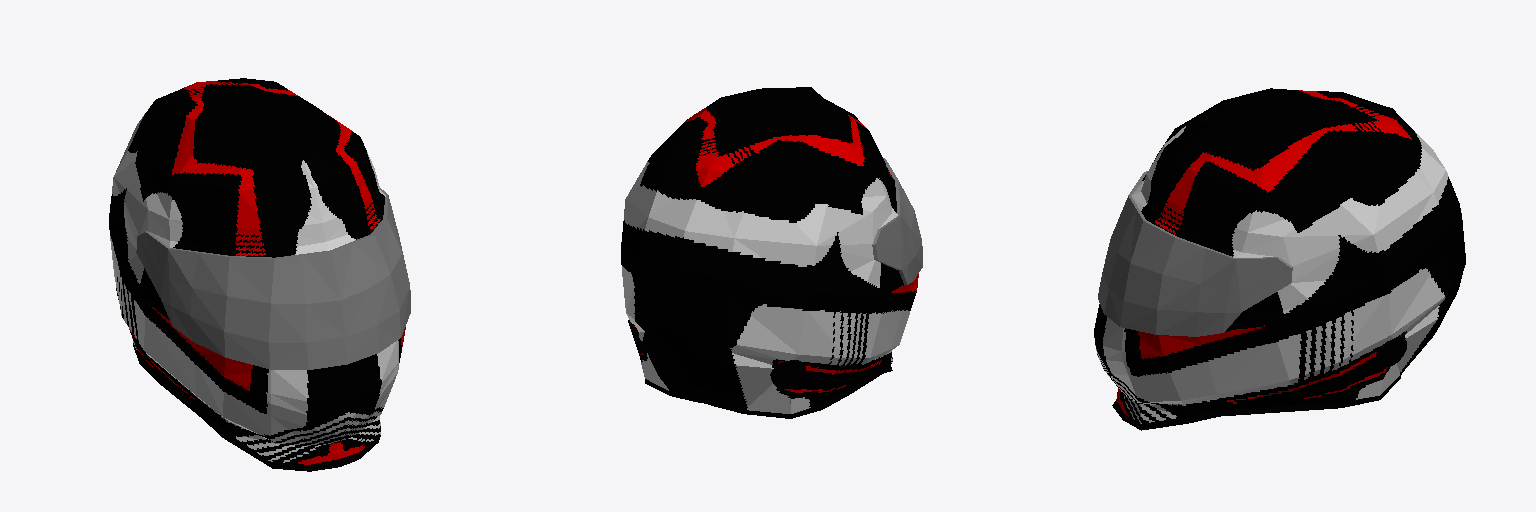
3 views of the same model, side by side, from view 1: azimuth 30°, elevation 25°; view 2: azimuth 150°, elevation 25°; view 3: azimuth 270°, elevation 25° (orthographic).
Parts seen in each view (by area): view 1: helmet_Circle, visor_Circle.001, textured_Circle.002; view 2: helmet_Circle, textured_Circle.002, visor_Circle.001, components_Cylinder; view 3: helmet_Circle, textured_Circle.002, visor_Circle.001, components_Cylinder.
Part boxes in pixels (bbox=[...]): helmet_Circle: bbox=[109, 78, 401, 471]; visor_Circle.001: bbox=[136, 188, 410, 369]; textured_Circle.002: bbox=[110, 81, 405, 464]; helmet_Circle: bbox=[621, 87, 916, 418]; textured_Circle.002: bbox=[622, 108, 918, 413]; visor_Circle.001: bbox=[872, 158, 922, 284]; components_Cylinder: bbox=[628, 320, 806, 388]; helmet_Circle: bbox=[1094, 88, 1465, 430]; textured_Circle.002: bbox=[1095, 90, 1448, 423]; visor_Circle.001: bbox=[1098, 171, 1292, 336]; components_Cylinder: bbox=[1376, 336, 1406, 367].
Bounding box in the file's own units: 26.03 × 32.77 × 36.39.
6 materials, 1 textured.